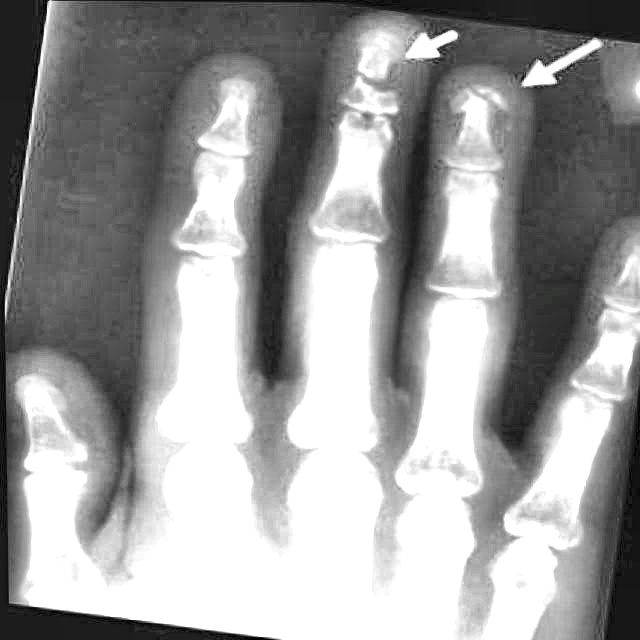Comminuted: (445, 77, 518, 147)
Segmental: (328, 25, 419, 154)
